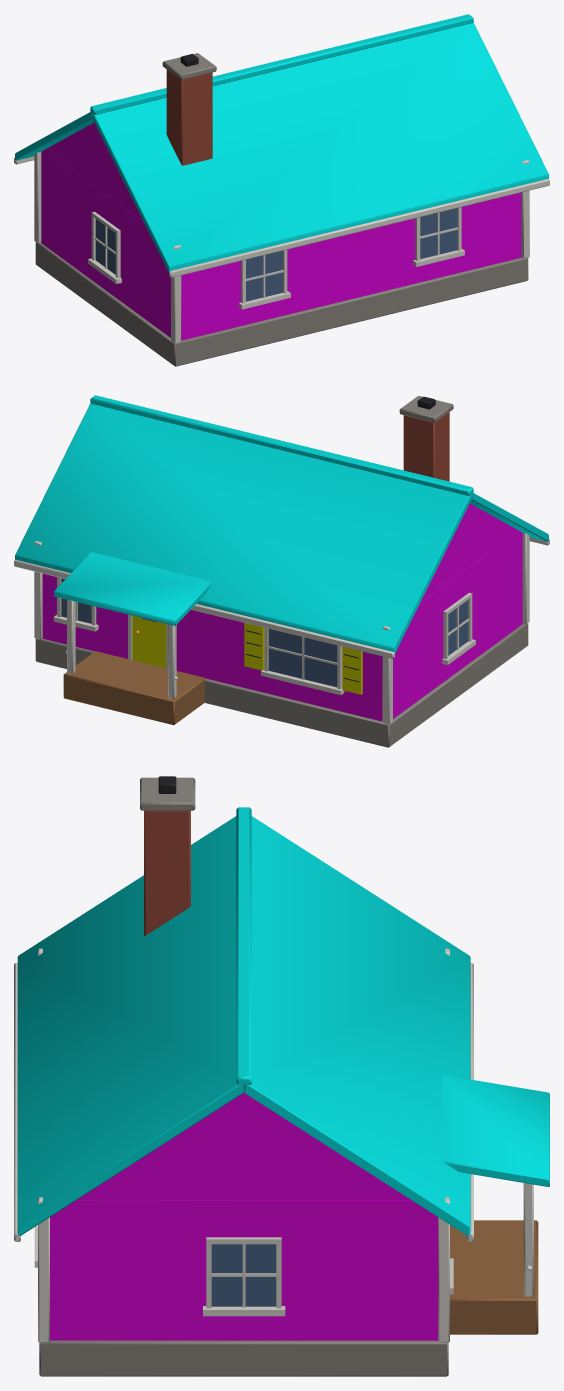
The model's file is House_Bungalow.fbx.
The picture shows the model from 3 angles, top to bottom: view 1: azimuth 30°, elevation 25°; view 2: azimuth 150°, elevation 25°; view 3: azimuth 270°, elevation 25°; orthographic projection. The views are drawn at different scales.
Visible parts, largest first — view 1: House_Bungalow; view 2: House_Bungalow; view 3: House_Bungalow.
Part boxes in pixels (x1,y1,x2,y2): House_Bungalow: (14,14,549,366); House_Bungalow: (14,395,549,747); House_Bungalow: (14,776,549,1376).
Bounding box in the file's own units: 10.9 × 7.24 × 9.11.
